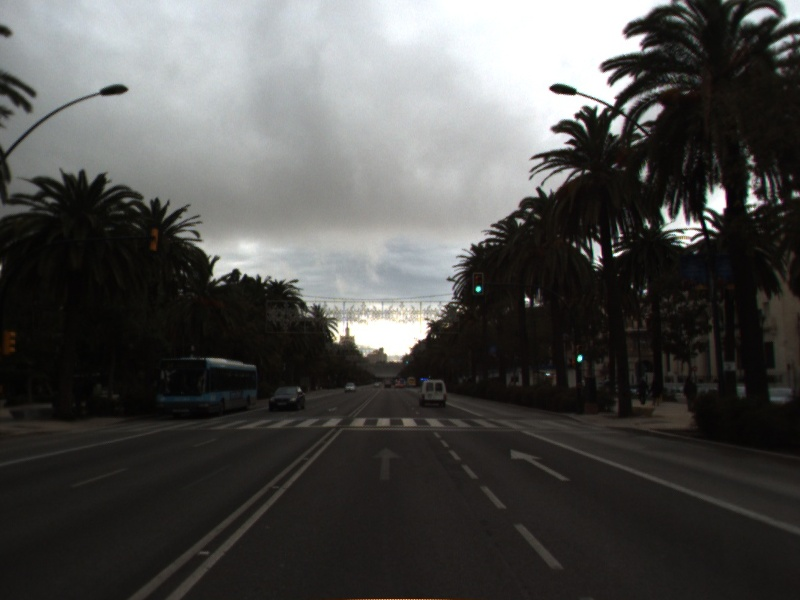STRAIGHT: (508, 447, 573, 483), (369, 445, 405, 483)
